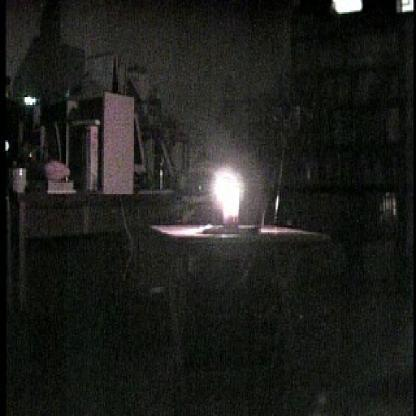fire: (191, 154, 259, 238)
